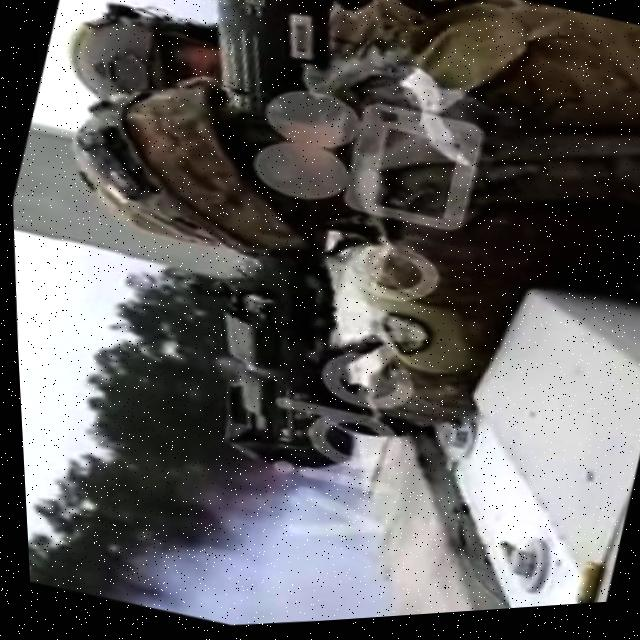rocket: (80, 0, 448, 492)
